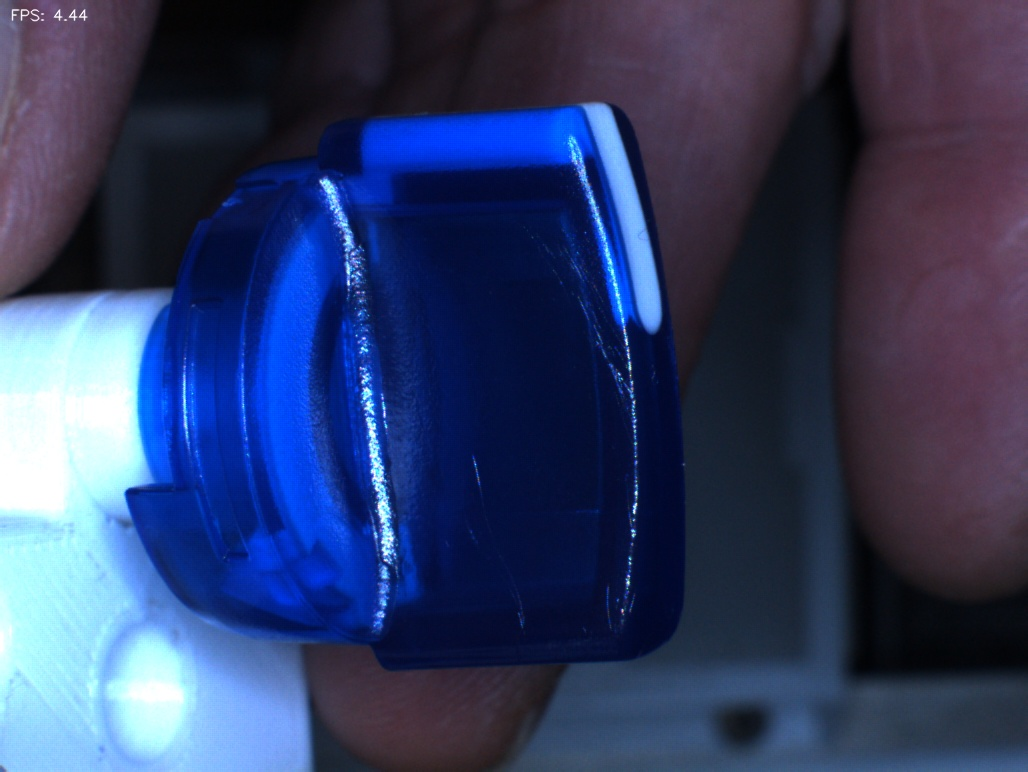Givrage: (517, 208, 618, 393), (460, 445, 555, 635), (594, 556, 645, 647)
